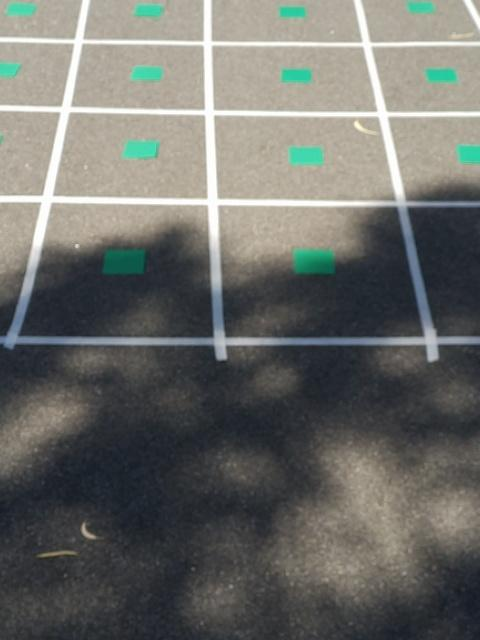weed: (289, 243, 338, 278), (103, 244, 150, 277), (287, 140, 322, 171), (122, 137, 158, 161), (281, 63, 314, 86), (456, 141, 480, 168), (128, 0, 167, 16), (427, 66, 458, 86), (130, 64, 163, 80), (278, 3, 307, 19), (4, 1, 38, 13), (407, 0, 436, 14), (0, 63, 20, 79)
